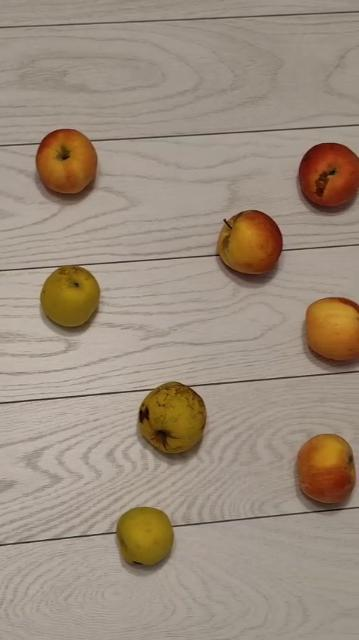apple_green: (137, 381, 206, 452), (40, 264, 101, 327), (116, 506, 174, 565)
apple_red: (34, 127, 97, 194), (218, 210, 282, 274), (297, 141, 359, 207), (296, 434, 355, 503), (305, 297, 359, 361)
